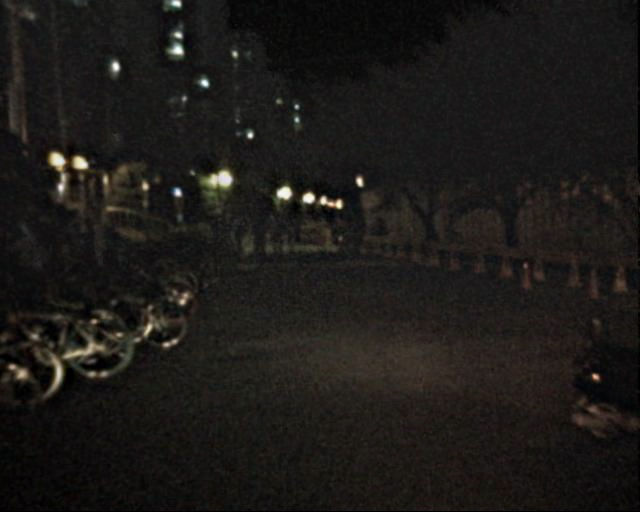person: (17, 220, 42, 281), (211, 214, 250, 248), (88, 217, 109, 267), (252, 218, 269, 260), (373, 218, 390, 260), (112, 226, 128, 266), (269, 216, 285, 255), (285, 216, 301, 243)
